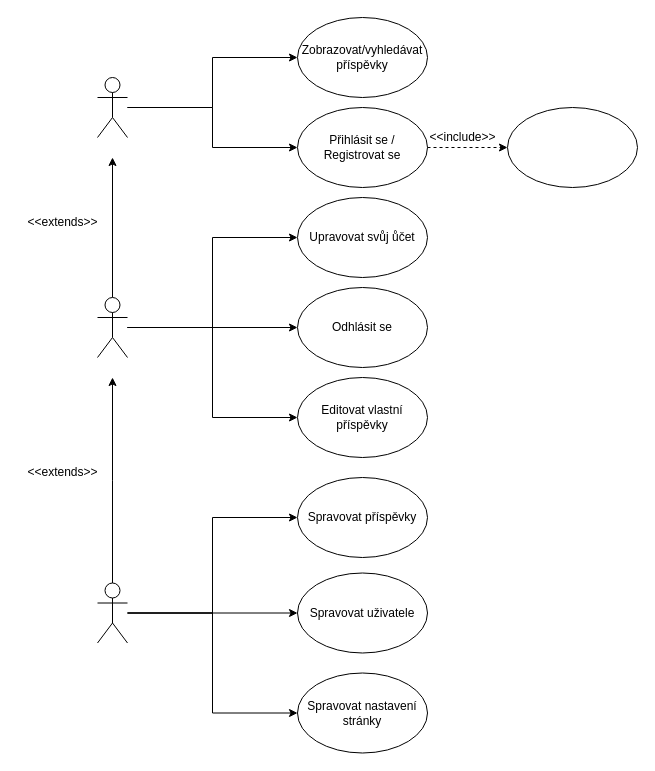
The diagram is 655 pixels wide and 771 high, and some of its shapes have lost their labels. The shapes that lost their labels are listed below. From the top down, each one's centre as x and y in pixels, then its label:
At point 112,107: "Návštěvník".
At point 572,147: "reset hesla".
At point 112,327: "Registrovaný uživatel".
At point 112,612: "Admin".
